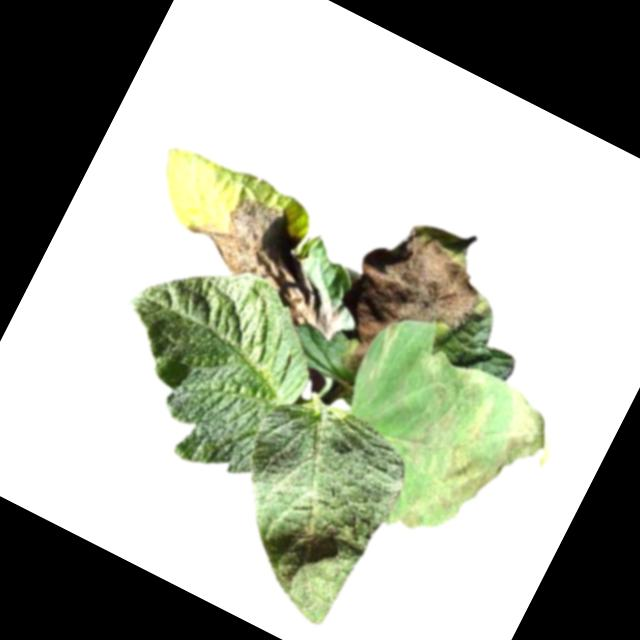Late_blight: (364, 351, 573, 578), (312, 208, 503, 412), (169, 173, 378, 345)
healthy: (73, 227, 335, 491), (194, 381, 420, 631)
